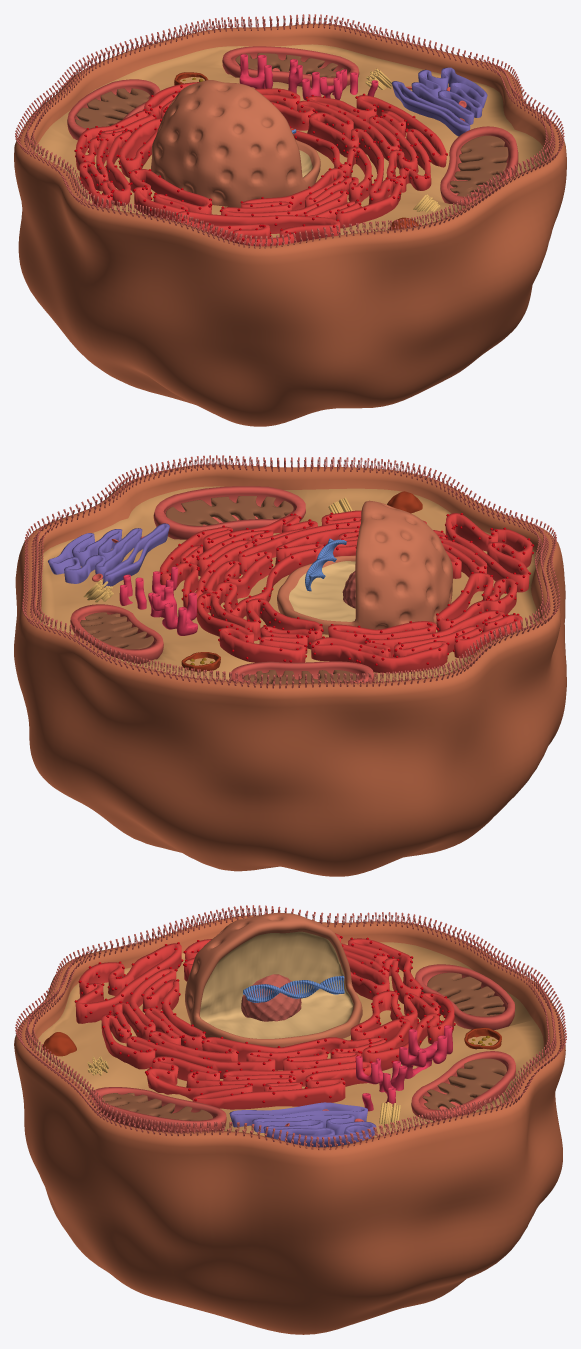
Rendered from cell.opt.glb.
3 views of the same model, one above another, from view 1: azimuth 30°, elevation 25°; view 2: azimuth 150°, elevation 25°; view 3: azimuth 270°, elevation 25° (orthographic). The views are drawn at different scales.
Visible parts, largest first — view 1: Base, Retic, nucleus, Vors, mitocondria, golgi-apparatus, Icosphere.001, Smooth Re, Centros; view 2: Base, Retic, nucleus, mitocondria, Vors, golgi-apparatus, Icosphere.001, Smooth Re, DNA, Centros, Lyb.001, Lyb; view 3: Base, Retic, nucleus, mitocondria, Vors, golgi-apparatus, Smooth Re, Icosphere.001, DNA, Centros, Lyb, Lyb.001.
Boxes of the visible parts, left/top/right/bottom form: Base: left=14, top=23, right=566, bottom=426; Retic: left=75, top=82, right=446, bottom=246; nucleus: left=151, top=80, right=320, bottom=207; Vors: left=15, top=14, right=564, bottom=248; mitocondria: left=67, top=46, right=518, bottom=205; golgi-apparatus: left=391, top=67, right=487, bottom=136; Icosphere.001: left=74, top=85, right=447, bottom=245; Smooth Re: left=239, top=54, right=378, bottom=100; Centros: left=365, top=68, right=440, bottom=212; Base: left=14, top=464, right=566, bottom=876; Retic: left=159, top=510, right=532, bottom=673; nucleus: left=277, top=500, right=452, bottom=634; mitocondria: left=70, top=486, right=374, bottom=683; Vors: left=22, top=455, right=560, bottom=688; golgi-apparatus: left=48, top=523, right=169, bottom=587; Icosphere.001: left=160, top=512, right=534, bottom=665; Smooth Re: left=119, top=566, right=197, bottom=635; DNA: left=305, top=538, right=346, bottom=591; Centros: left=83, top=497, right=352, bottom=602; Lyb.001: left=181, top=652, right=220, bottom=671; Lyb: left=387, top=491, right=422, bottom=513; Base: left=14, top=915, right=565, bottom=1334; Retic: left=75, top=933, right=454, bottom=1109; nucleus: left=185, top=913, right=362, bottom=1047; mitocondria: left=89, top=964, right=515, bottom=1132; Vors: left=15, top=905, right=566, bottom=1150; golgi-apparatus: left=229, top=1102, right=376, bottom=1147; Smooth Re: left=355, top=1025, right=452, bottom=1111; Icosphere.001: left=74, top=936, right=455, bottom=1102; DNA: left=243, top=975, right=344, bottom=1002; Centros: left=87, top=1056, right=400, bottom=1127; Lyb: left=42, top=1032, right=76, bottom=1056; Lyb.001: left=464, top=1027, right=501, bottom=1049.
Size of the model in its own units: 1.9 by 1.21 by 1.85.
